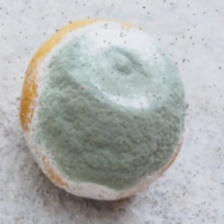orange: (7, 31, 181, 224)
